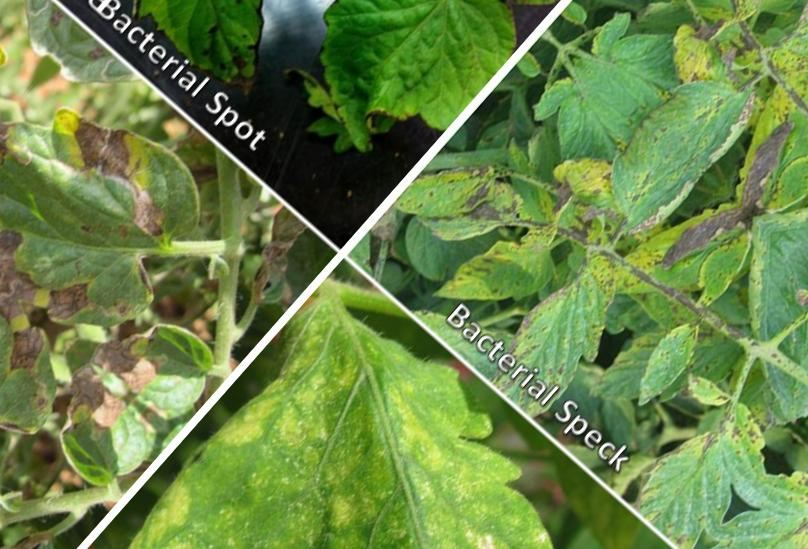Tomato Early blight leaf: (0, 49, 251, 378)
Tomato leaf bacterial spot: (235, 0, 537, 215), (598, 348, 804, 549), (98, 0, 410, 123), (471, 226, 654, 417), (418, 181, 590, 361), (499, 42, 664, 201), (550, 102, 711, 262), (388, 139, 534, 287), (665, 207, 776, 322)
